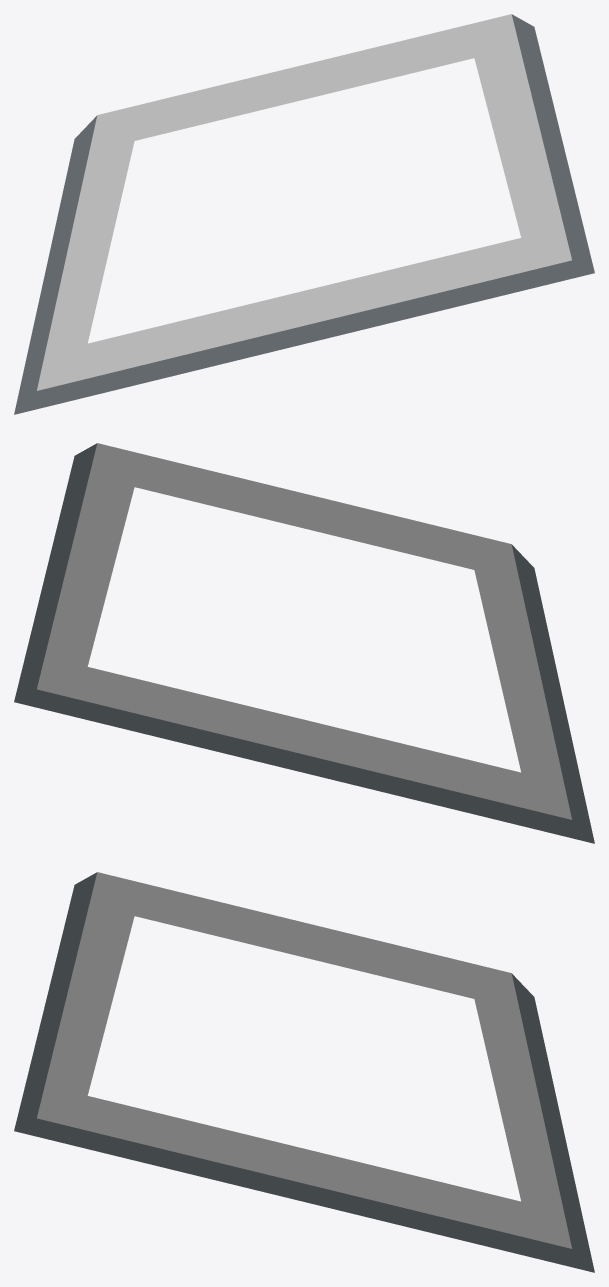
Rendered from yump_border.glb.
3 renders of one model, top to bottom at view 1: azimuth 30°, elevation 25°; view 2: azimuth 150°, elevation 25°; view 3: azimuth 330°, elevation 25°, orthographic.
Parts seen in each view (by area): view 1: Plane; view 2: Plane; view 3: Plane.
Boxes of the visible parts, x1,y1,x2,y2 form: Plane: (14,14,594,414); Plane: (14,443,594,843); Plane: (14,872,594,1272).
Bounding box in the file's own units: 3.78 × 1.74 × 1.52e-07.
1 material, 1 textured.
